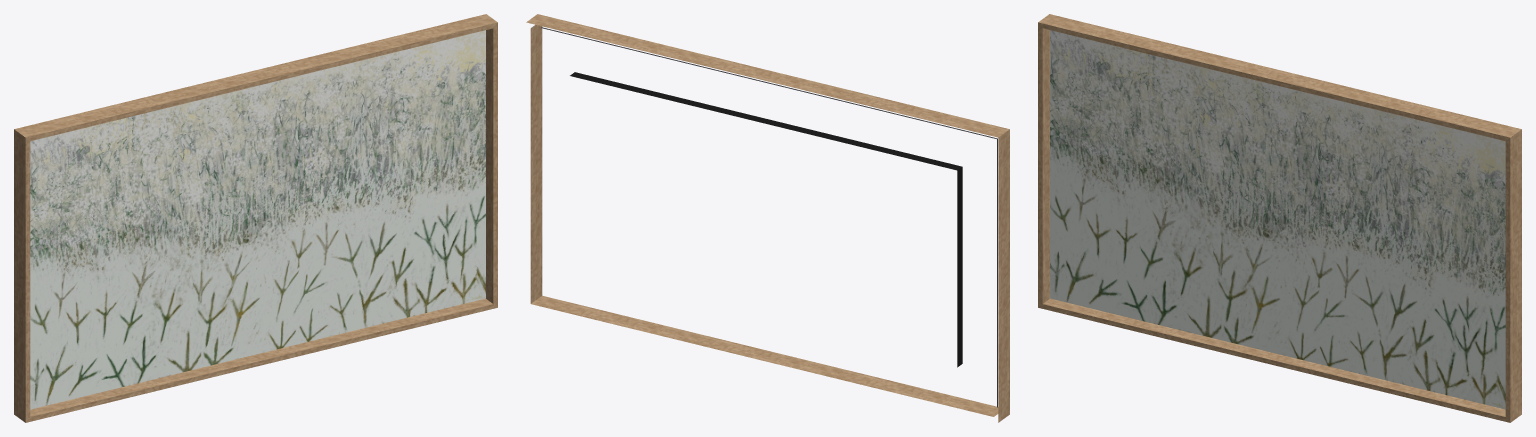
File: hz093_moyen_caisse-chene.glb
The picture shows the model from 3 angles, left to right: view 1: azimuth 30°, elevation 25°; view 2: azimuth 150°, elevation 25°; view 3: azimuth 330°, elevation 25°; orthographic projection.
Visible parts, largest first — view 1: hz093_moyen_caisse-chene; view 2: hz093_moyen_caisse-chene; view 3: hz093_moyen_caisse-chene.
Part boxes in pixels (box(x1,y1,x2,y2)): hz093_moyen_caisse-chene: box(14, 14, 497, 422); hz093_moyen_caisse-chene: box(526, 14, 1009, 422); hz093_moyen_caisse-chene: box(1038, 14, 1521, 422).
Bounding box in the file's own units: 0.828 × 0.478 × 0.035.
Materials: 4 (2 with a texture image).
